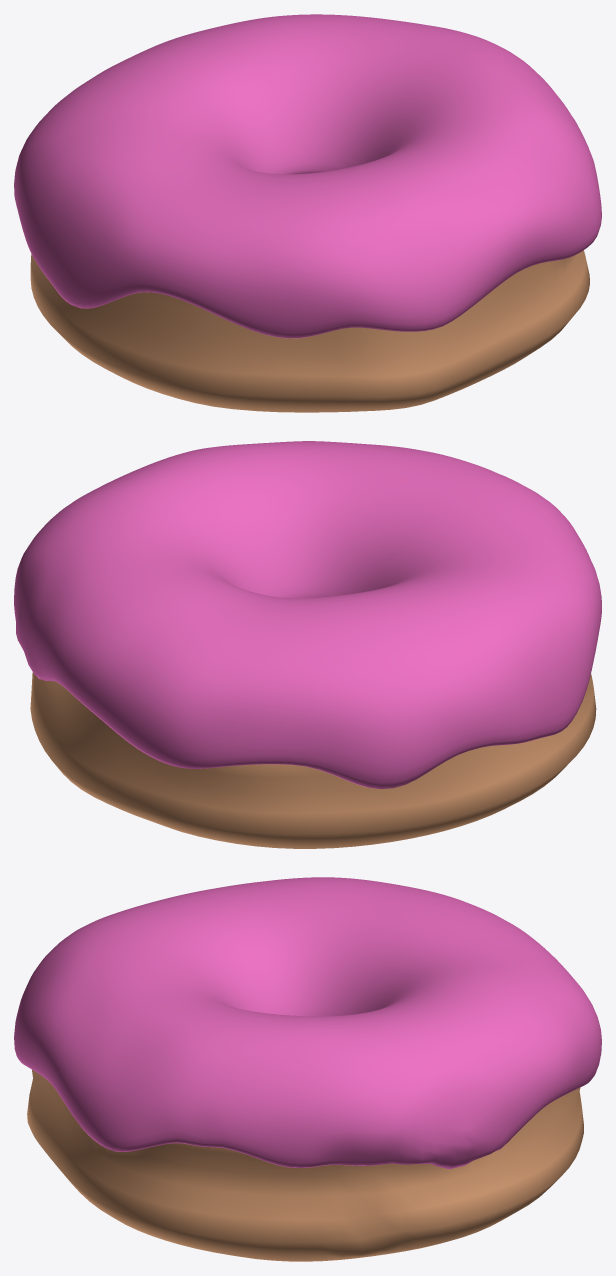
Rendered from donut.glb.
3 renders of one model, top to bottom at view 1: azimuth 30°, elevation 25°; view 2: azimuth 150°, elevation 25°; view 3: azimuth 270°, elevation 25°, orthographic. The views are drawn at different scales.
Visible parts, largest first — view 1: Icing, Donut; view 2: Icing, Donut; view 3: Icing, Donut.
Boxes of the visible parts, bbox=[...] form: Icing: bbox=[14, 14, 601, 338]; Donut: bbox=[30, 250, 589, 412]; Icing: bbox=[14, 441, 601, 788]; Donut: bbox=[30, 672, 596, 848]; Icing: bbox=[14, 877, 601, 1169]; Donut: bbox=[27, 1069, 583, 1261].
Size of what is drawn, in the model's own units: 0.0964 by 0.0433 by 0.1009.
